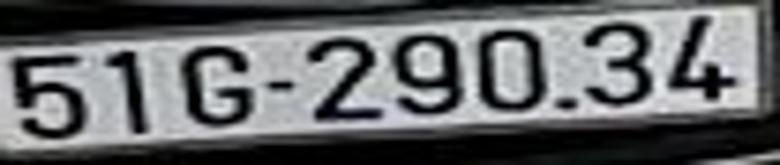-: (262, 76, 307, 101)
.: (551, 87, 583, 122)
0: (476, 32, 548, 111)
1: (105, 50, 158, 134)
2: (309, 37, 387, 124)
3: (580, 19, 659, 112)
4: (672, 12, 743, 106)
5: (11, 50, 96, 141)
9: (394, 32, 464, 116)
G: (179, 43, 259, 127)
